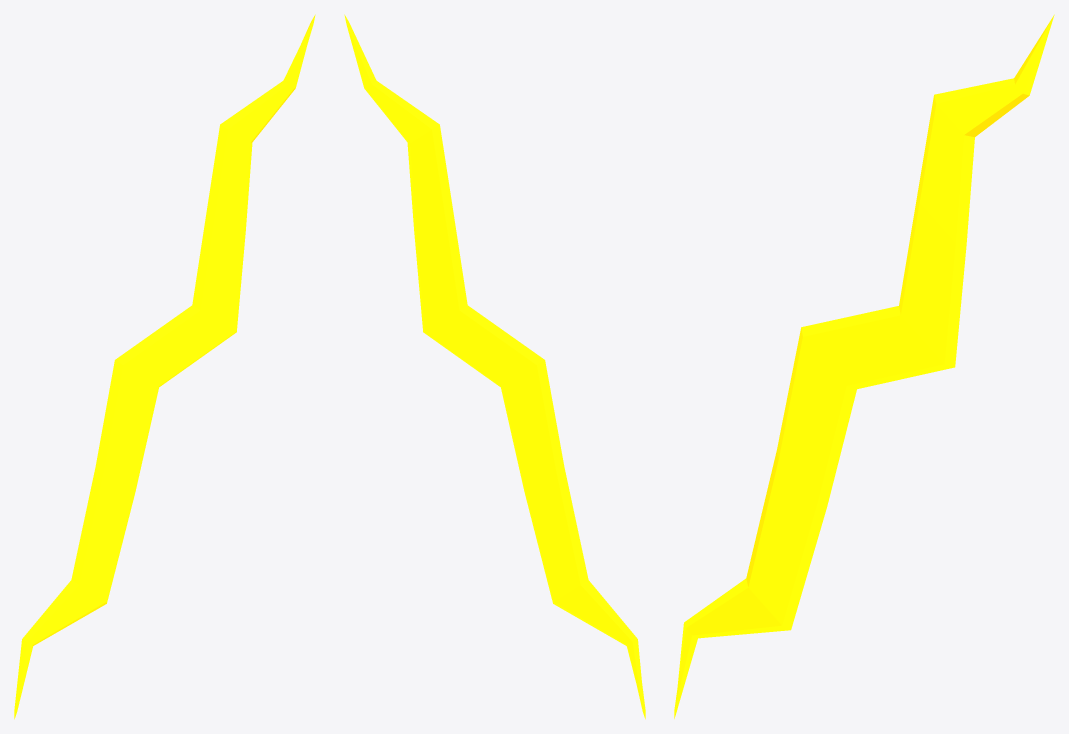
The model's file is Lightning Bolt.fbx.
The picture shows the model from 3 angles, left to right: view 1: azimuth 30°, elevation 25°; view 2: azimuth 150°, elevation 25°; view 3: azimuth 330°, elevation 25°; orthographic projection. The views are drawn at different scales.
Visible parts, largest first — view 1: Cube; view 2: Cube; view 3: Cube.
Boxes of the visible parts, bbox=[...] form: Cube: bbox=[14, 14, 315, 719]; Cube: bbox=[344, 14, 645, 719]; Cube: bbox=[674, 14, 1054, 718].
Size of the model in its own units: 768 by 1541 by 30.54.
